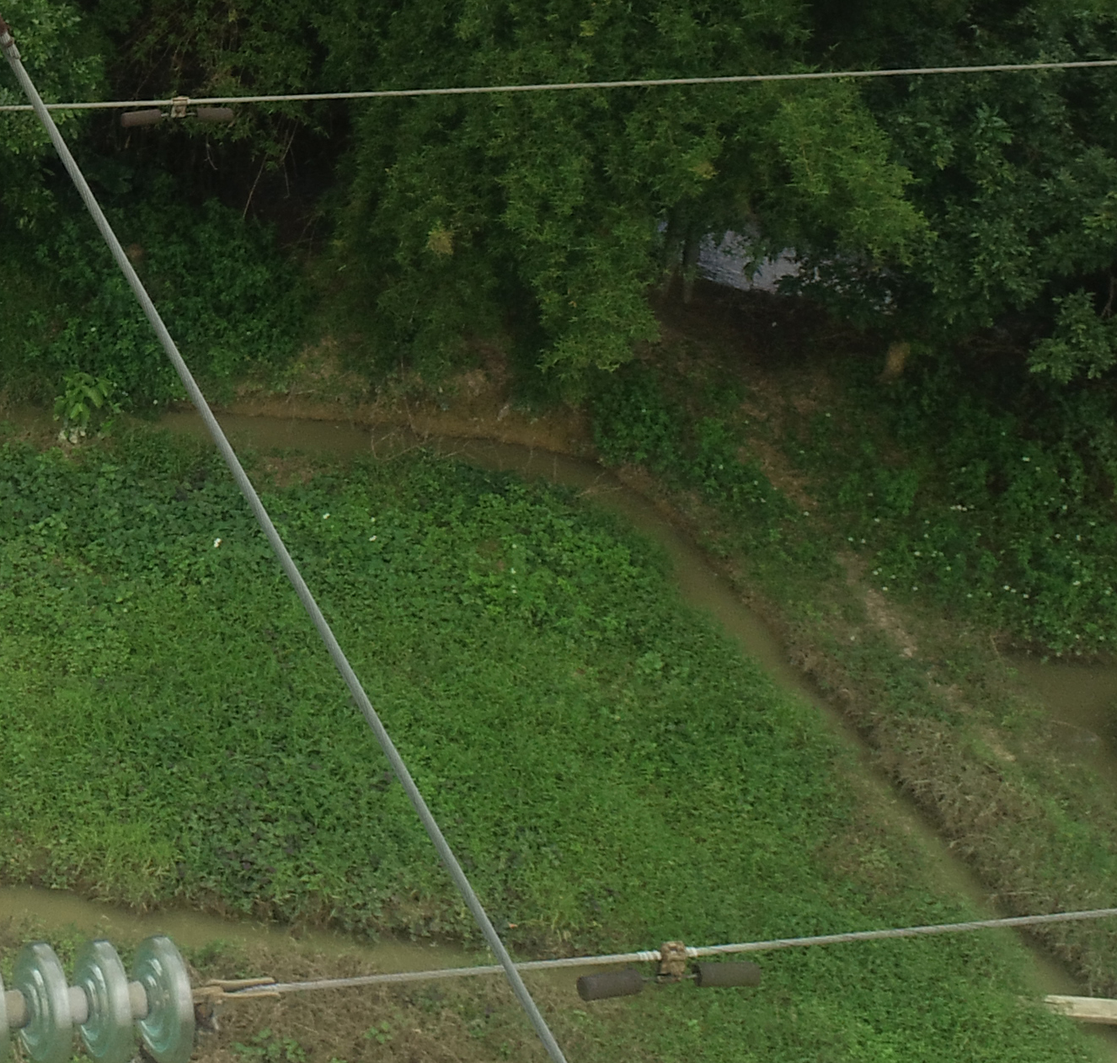damper: (573, 935, 764, 1003)
